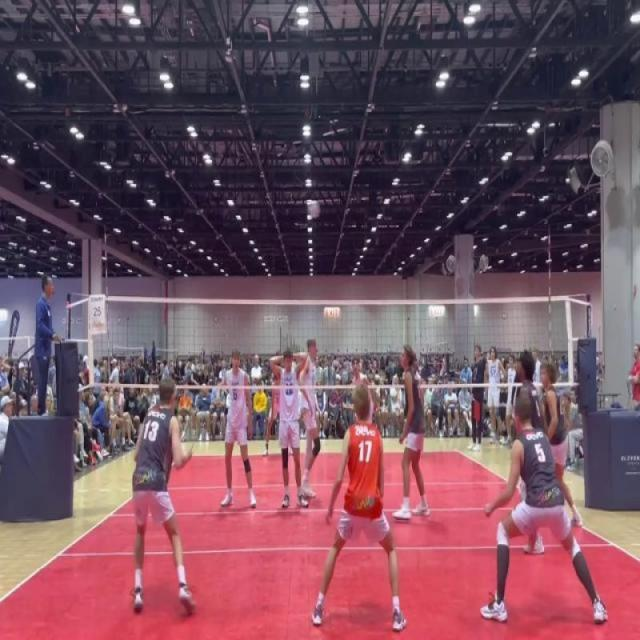volleyball: (308, 198, 322, 222)
